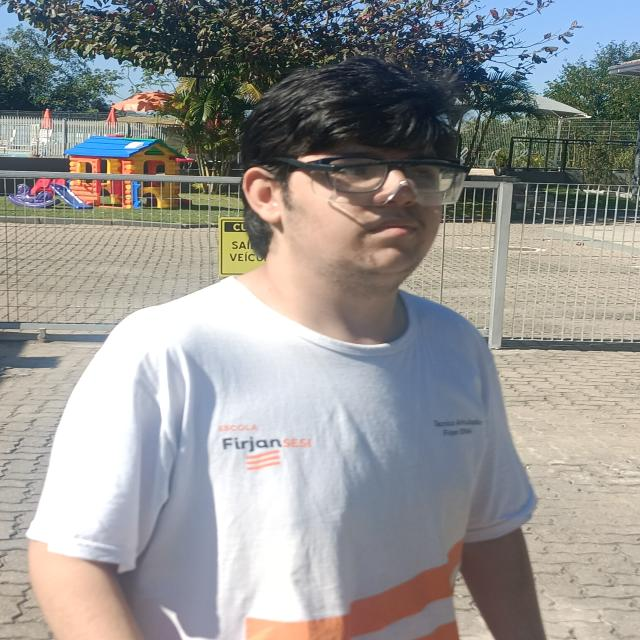oculos-epi: (277, 157, 468, 215)
